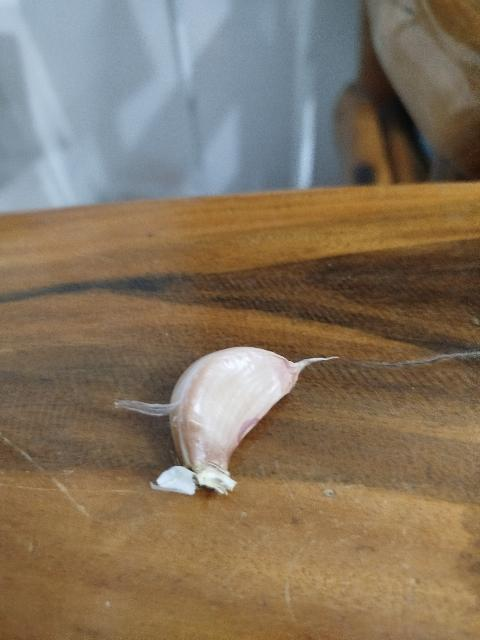garlic: (114, 346, 340, 496)
